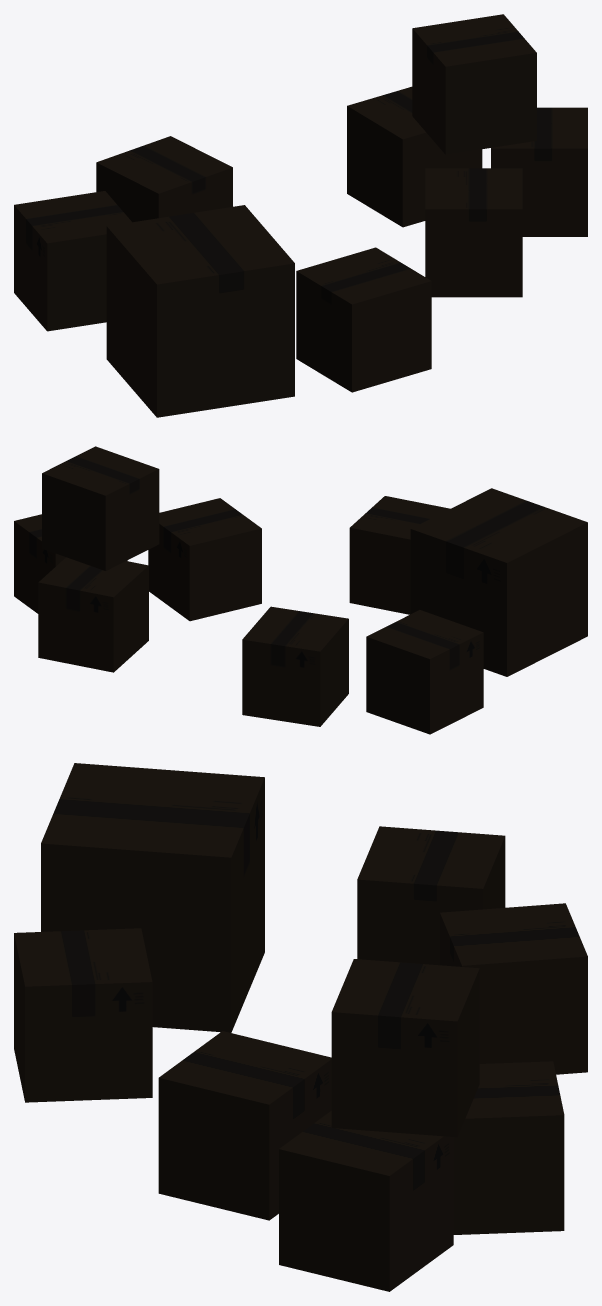
File: EmptyRoomInterior2.FBX
3 views of the same model, one above another, from view 1: azimuth 30°, elevation 25°; view 2: azimuth 150°, elevation 25°; view 3: azimuth 270°, elevation 25° (orthographic). The views are drawn at different scales.
Visible parts, largest first — view 1: PackingBox_016, PackingBox_013, PackingBox_012, PackingBox_010, PackingBox_015, PackingBox_011, PackingBox_009, PackingBox_014; view 2: PackingBox_016, PackingBox_015, PackingBox_012, PackingBox_010, PackingBox_014, PackingBox_011, PackingBox_013, PackingBox_009; view 3: PackingBox_016, PackingBox_009, PackingBox_012, PackingBox_010, PackingBox_013, PackingBox_014, PackingBox_011, PackingBox_015.
Boxes of the visible parts, bbox=[...] form: PackingBox_016: bbox=[106, 205, 294, 417]; PackingBox_013: bbox=[296, 247, 431, 392]; PackingBox_012: bbox=[412, 14, 536, 154]; PackingBox_010: bbox=[425, 168, 522, 297]; PackingBox_015: bbox=[14, 191, 131, 331]; PackingBox_011: bbox=[347, 86, 482, 227]; PackingBox_009: bbox=[491, 107, 587, 236]; PackingBox_014: bbox=[96, 136, 232, 222]; PackingBox_016: bbox=[410, 488, 587, 676]; PackingBox_015: bbox=[366, 610, 483, 734]; PackingBox_012: bbox=[42, 446, 159, 570]; PackingBox_010: bbox=[148, 498, 261, 621]; PackingBox_014: bbox=[242, 606, 348, 726]; PackingBox_011: bbox=[38, 557, 148, 672]; PackingBox_013: bbox=[349, 496, 450, 614]; PackingBox_009: bbox=[14, 514, 127, 613]; PackingBox_016: bbox=[41, 763, 264, 1032]; PackingBox_009: bbox=[279, 1111, 453, 1291]; PackingBox_012: bbox=[331, 959, 479, 1137]; PackingBox_010: bbox=[158, 1031, 331, 1220]; PackingBox_013: bbox=[14, 928, 152, 1102]; PackingBox_014: bbox=[440, 903, 587, 1074]; PackingBox_011: bbox=[453, 1061, 564, 1234]; PackingBox_015: bbox=[357, 826, 505, 965].
Bounding box in the file's own units: 313 × 95.98 × 214.
1 material, 1 textured.
